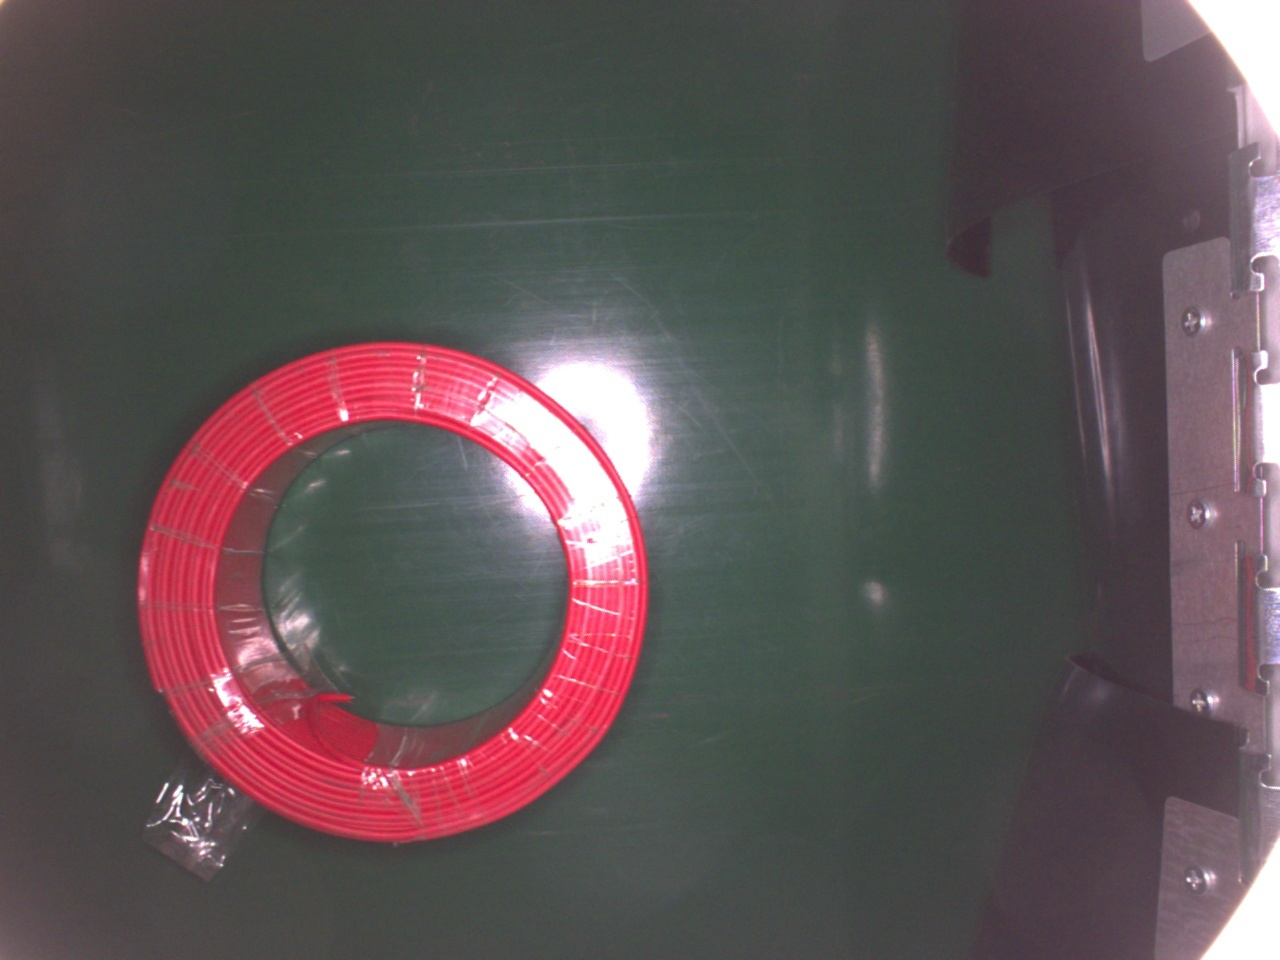red: (140, 339, 652, 839)
